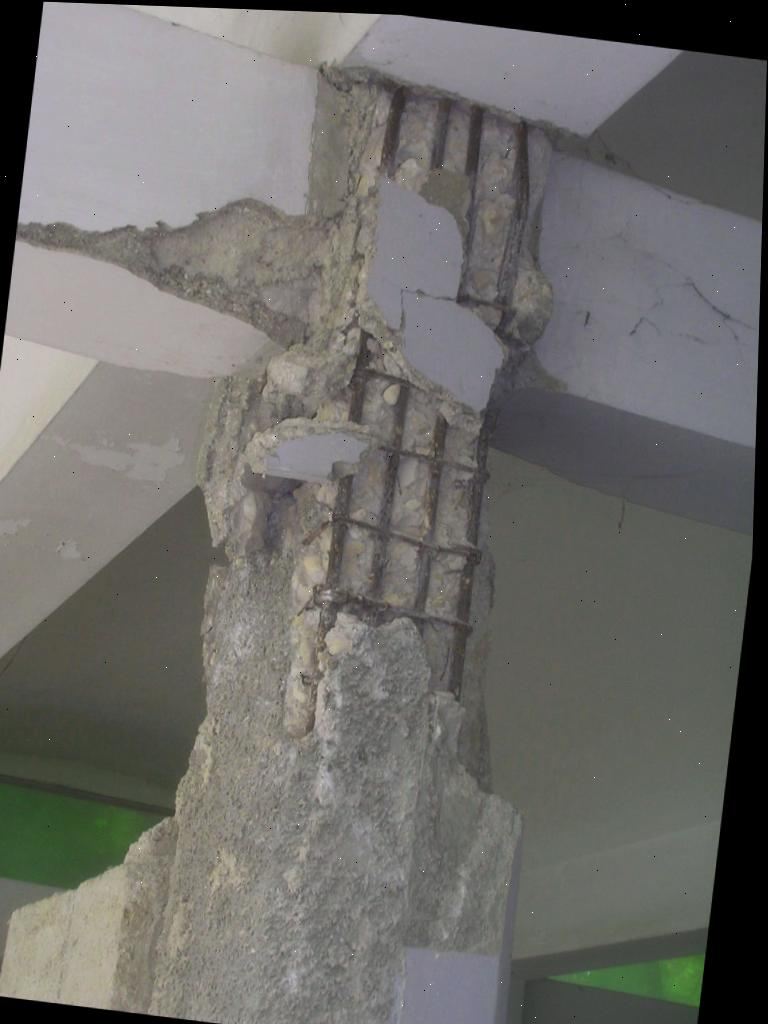exposed_rebar: (348, 369, 431, 599), (438, 428, 489, 698), (414, 414, 474, 611), (314, 586, 470, 635), (497, 122, 530, 303), (325, 474, 352, 588), (381, 85, 408, 174), (349, 332, 368, 421), (430, 97, 453, 169), (465, 104, 484, 182)
spalling: (16, 60, 559, 792)
